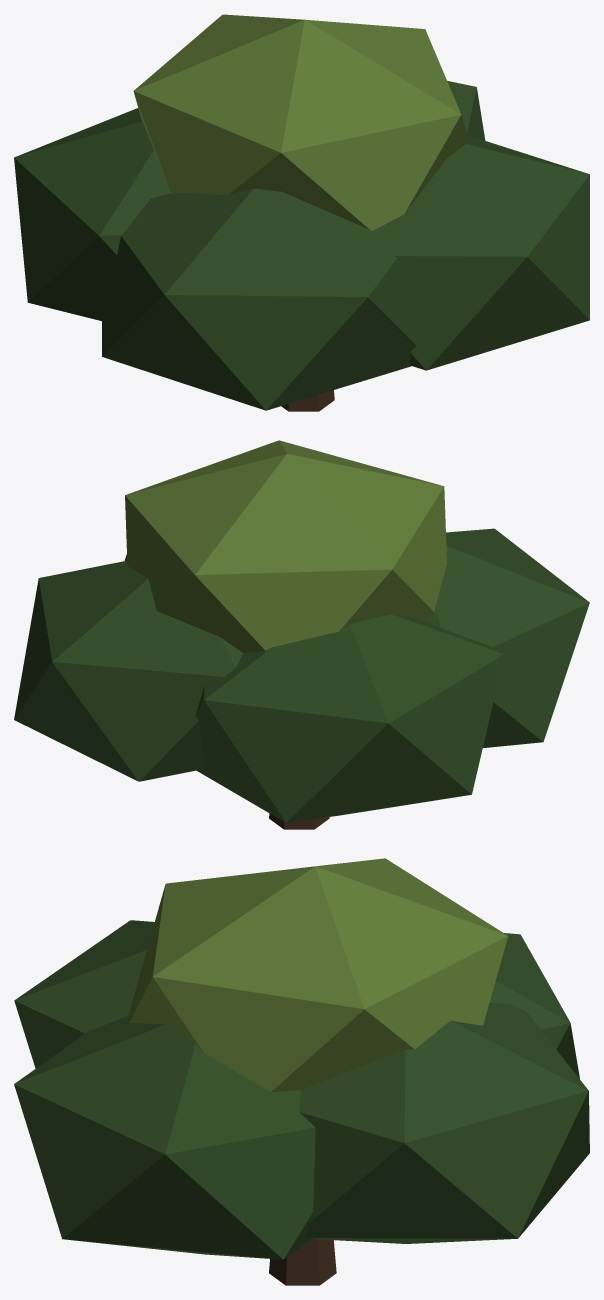
The model's file is shrub_cocoa.glb.
3 views of the same model, one above another, from view 1: azimuth 30°, elevation 25°; view 2: azimuth 150°, elevation 25°; view 3: azimuth 270°, elevation 25° (orthographic). The views are drawn at different scales.
Visible parts, largest first — view 1: shrub_cocoa; view 2: shrub_cocoa; view 3: shrub_cocoa.
Part boxes in pixels (x1,y1,x2,y2): shrub_cocoa: (14,14,589,411); shrub_cocoa: (14,440,589,829); shrub_cocoa: (14,858,589,1285).
Bounding box in the file's own units: 2.01 × 1.6 × 2.04.
